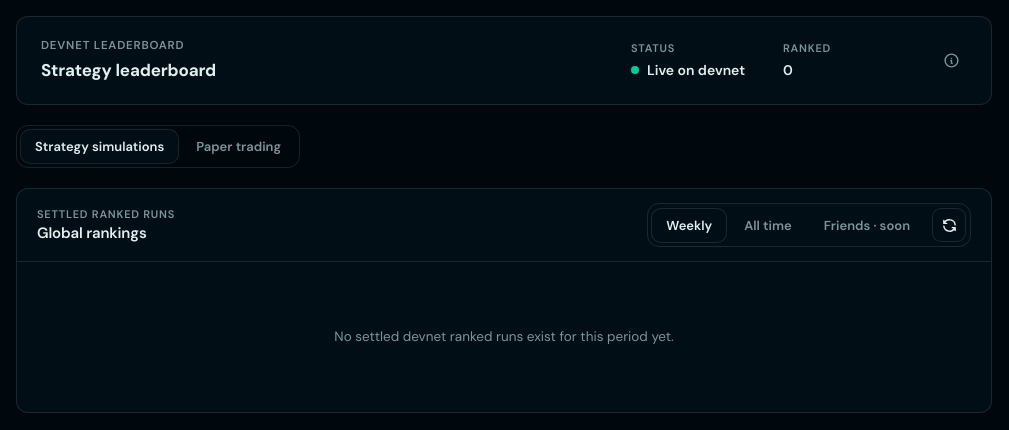
it: Leaderboard › keeps strategy rankings as the default view and loads paper rankings only after switching
The image size is (1009, 430).
Expected: the heading "Strategy leaderboard" is shown, [41,58,216,84]
Expected: the heading "Global rankings" is shown, [37,223,147,243]
Step 1. Click the button "Paper trading" → point(239, 147), box [182,130,295,163]
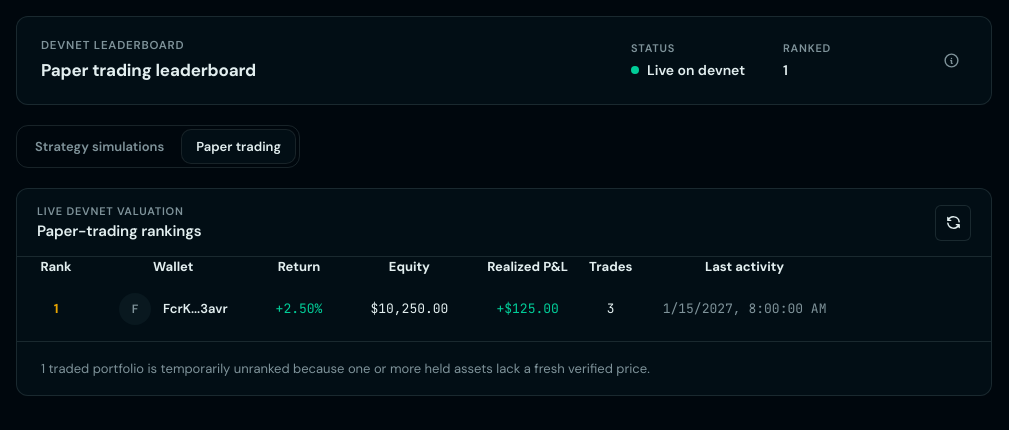
Expected: the heading "Paper trading leaderboard" is shown, [41,58,256,84]
Expected: the heading "Paper-trading rankings" is shown, [37,220,202,242]
Expected: the text "+2.50%" is shown, [252,277,346,341]
